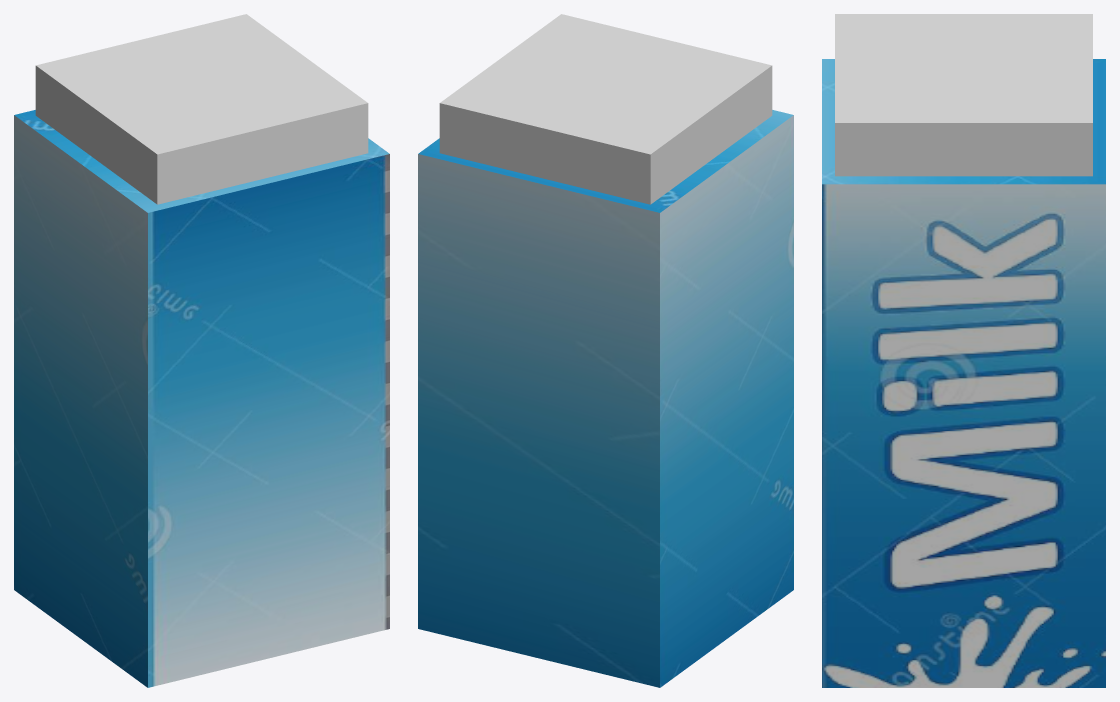
The model's file is milk 2.fbx.
3 renders of one model, left to right at view 1: azimuth 30°, elevation 25°; view 2: azimuth 150°, elevation 25°; view 3: azimuth 270°, elevation 25°, orthographic. The views are drawn at different scales.
Parts seen in each view (by area): view 1: Cube, Cube.001; view 2: Cube, Cube.001; view 3: Cube, Cube.001.
Part boxes in pixels (bbox=[...]): Cube: bbox=[14, 110, 389, 687]; Cube.001: bbox=[35, 14, 368, 204]; Cube: bbox=[418, 110, 793, 687]; Cube.001: bbox=[439, 14, 772, 204]; Cube: bbox=[822, 59, 1105, 687]; Cube.001: bbox=[835, 14, 1092, 176].
Bounding box in the file's own units: 90.65 × 188 × 86.81.
1 material, 1 textured.
